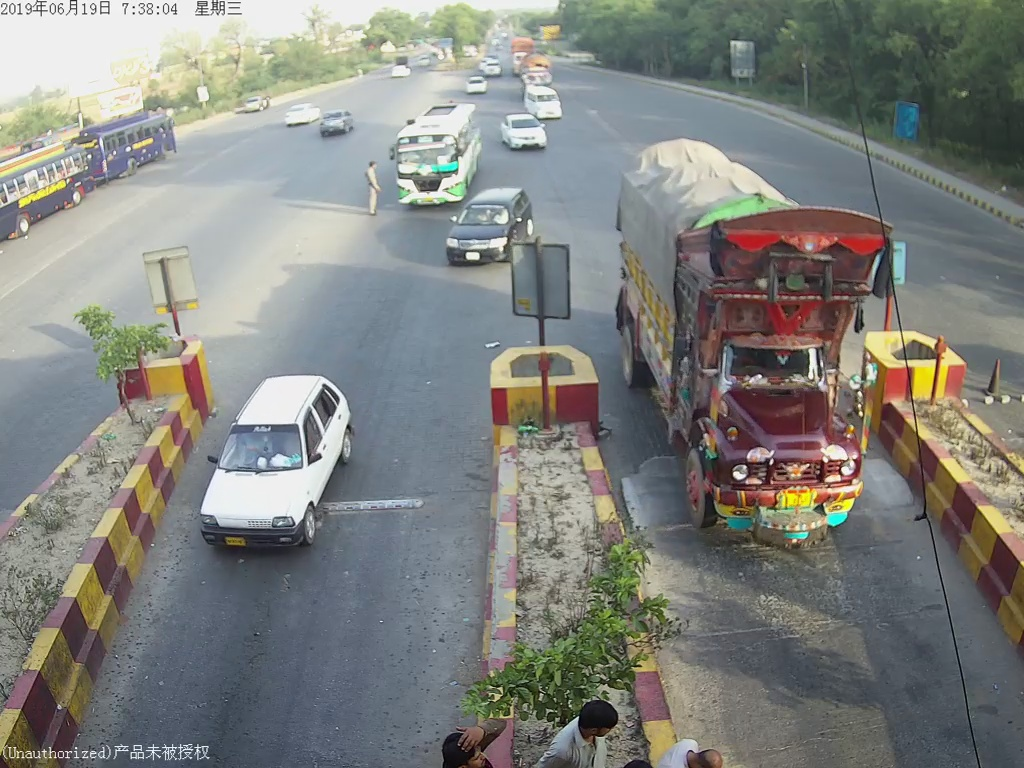Cat-1: (205, 376, 358, 548), (446, 180, 536, 269), (497, 109, 551, 153), (522, 86, 571, 122)
Cat-3: (396, 99, 488, 205)
Cat-4: (624, 141, 878, 543)
